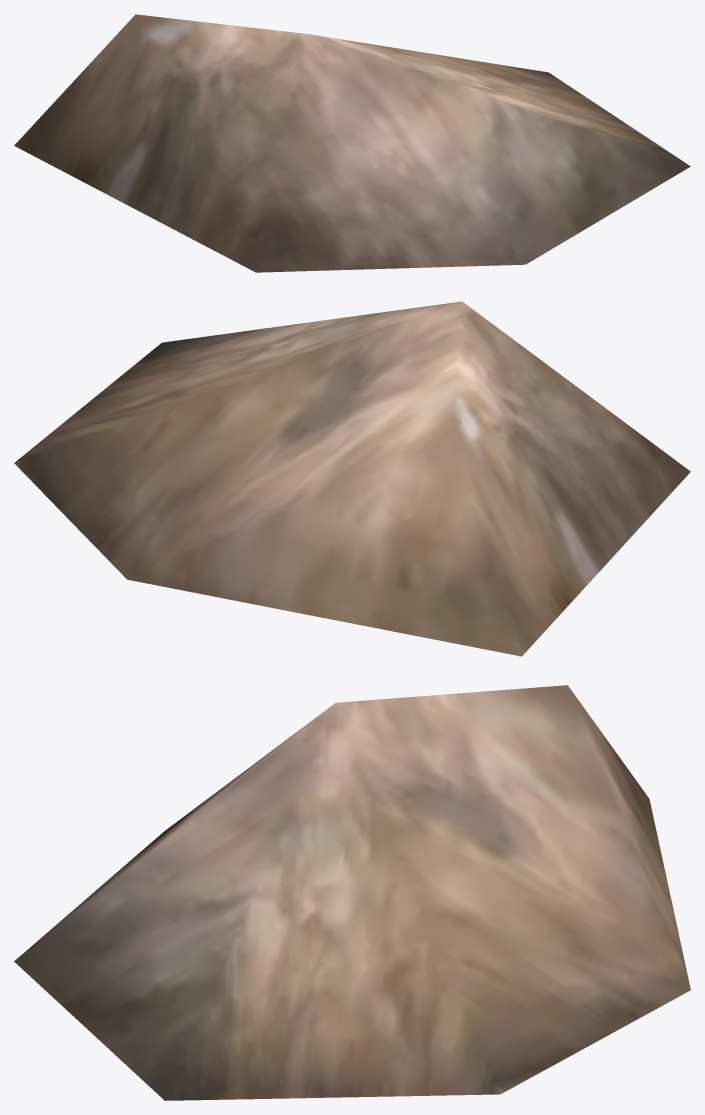
Rendered from rock-2.glb.
3 views of the same model, one above another, from view 1: azimuth 30°, elevation 25°; view 2: azimuth 150°, elevation 25°; view 3: azimuth 270°, elevation 25° (orthographic). The views are drawn at different scales.
Parts seen in each view (by area): view 1: rock-2_Geoset0; view 2: rock-2_Geoset0; view 3: rock-2_Geoset0.
Part boxes in pixels (<box>): rock-2_Geoset0: <box>14,14,690,272</box>; rock-2_Geoset0: <box>14,301,690,656</box>; rock-2_Geoset0: <box>14,685,690,1100</box>.
Bounding box in the file's own units: 0.4709 × 0.1478 × 0.4463.
Materials: 1 (1 with a texture image).
